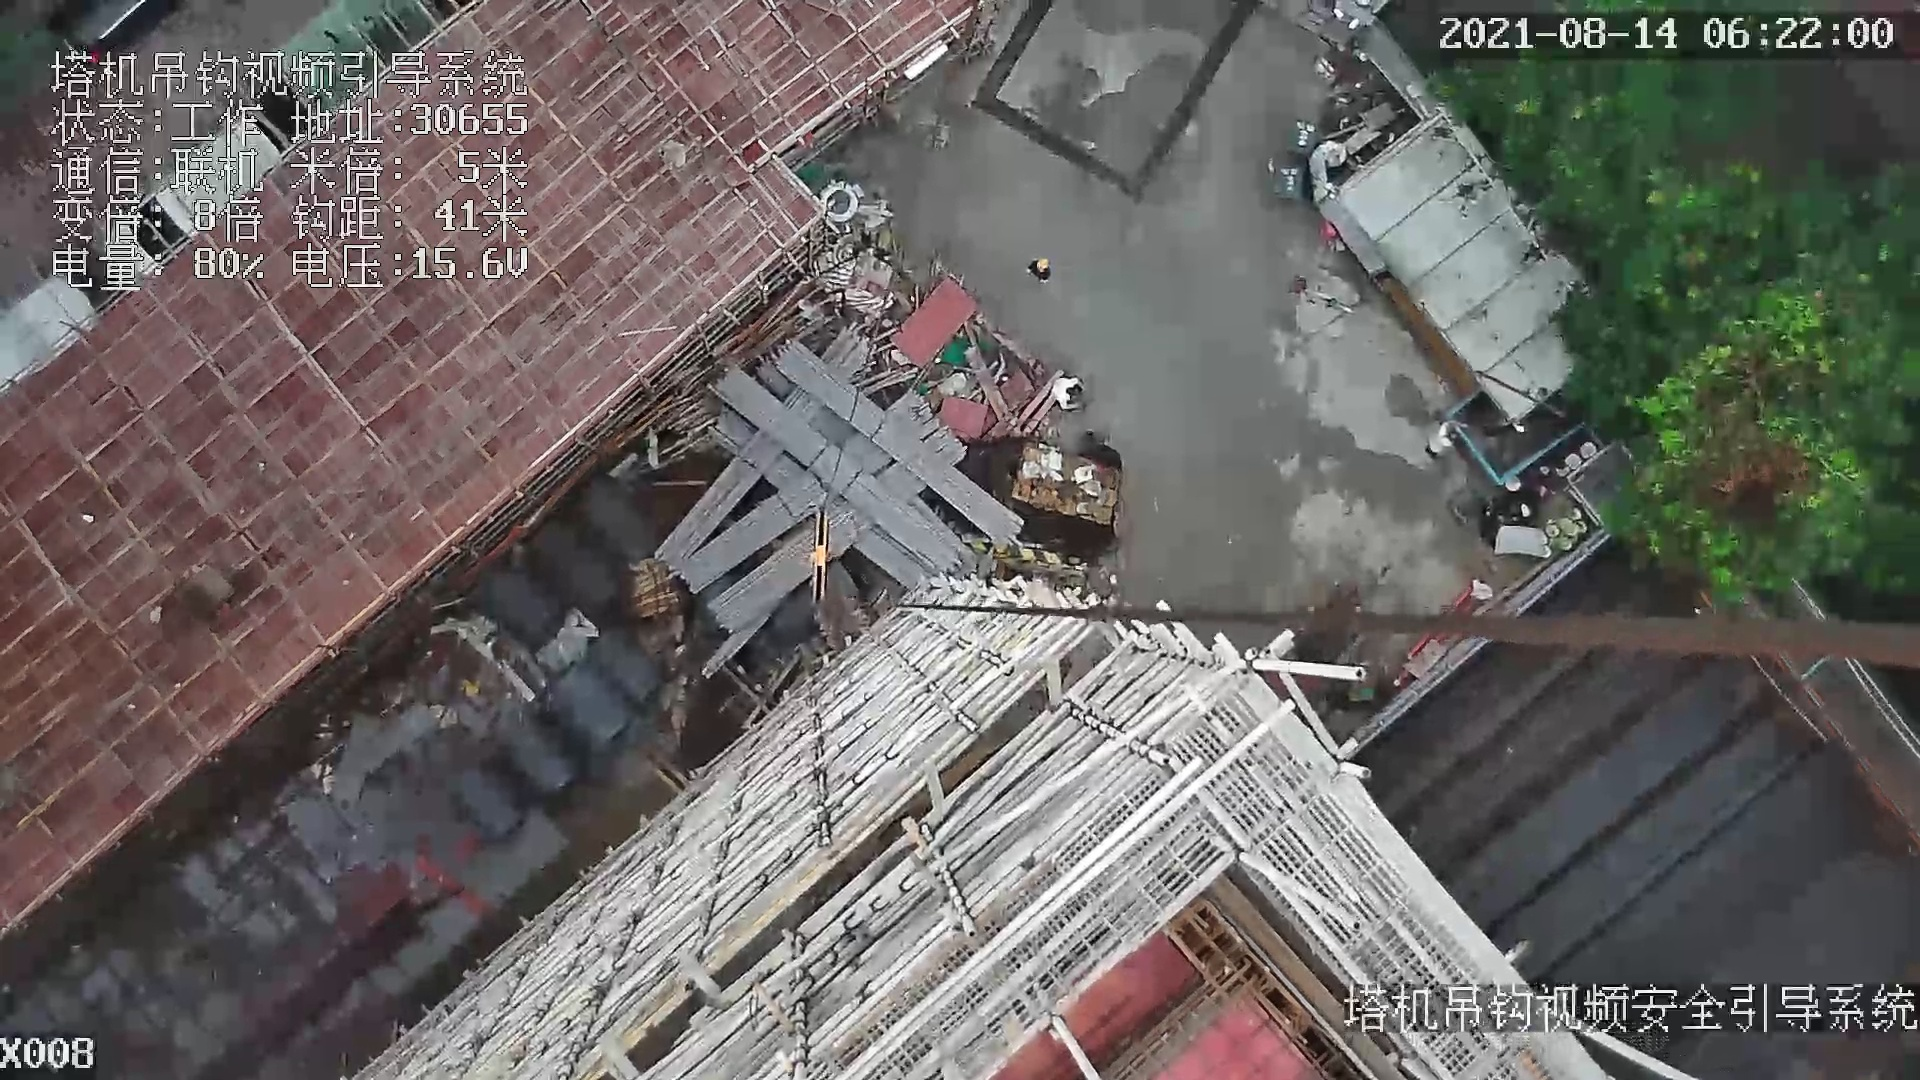hook: (808, 505, 833, 613)
